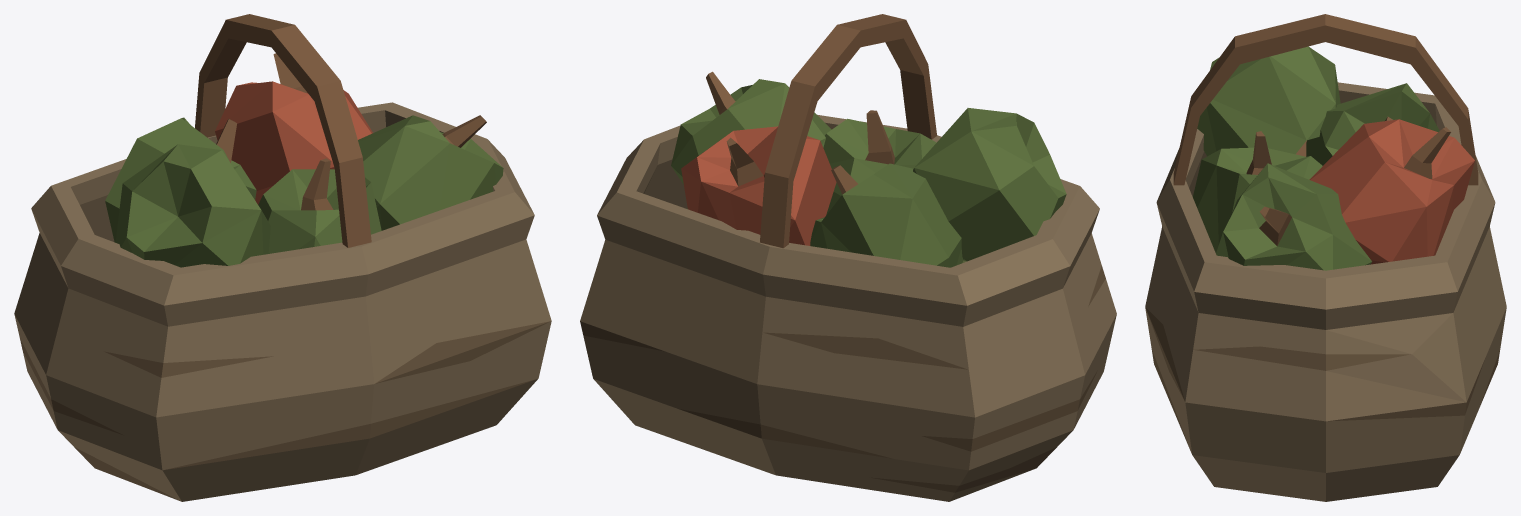
File: SM_Prop_Basket_04.gltf
3 renders of one model, left to right at view 1: azimuth 30°, elevation 25°; view 2: azimuth 150°, elevation 25°; view 3: azimuth 270°, elevation 25°, orthographic.
Visible parts, largest first — view 1: SM_Prop_Basket_04; view 2: SM_Prop_Basket_04; view 3: SM_Prop_Basket_04.
Part boxes in pixels (x1,y1,x2,y2): SM_Prop_Basket_04: [14, 14, 551, 501]; SM_Prop_Basket_04: [580, 14, 1116, 501]; SM_Prop_Basket_04: [1145, 14, 1506, 501].
Size of the model in its own units: 0.5833 by 0.4658 by 0.3891.
Materials: 1 (1 with a texture image).
